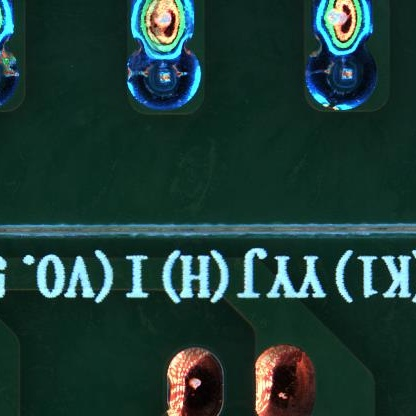spot: (308, 47, 380, 113), (127, 47, 200, 112)
